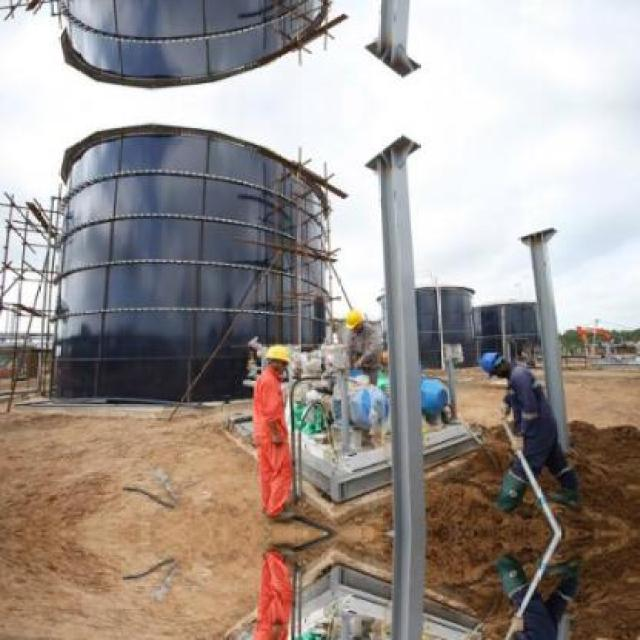helmet: (265, 338, 289, 376), (480, 350, 511, 379), (346, 308, 362, 332)
